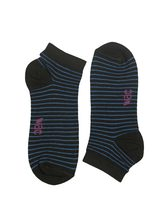sock: (82, 38, 147, 184), (24, 44, 82, 184)
